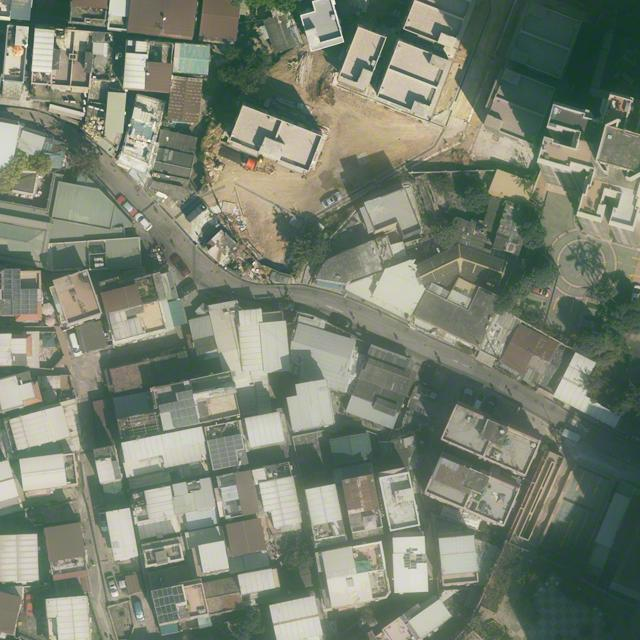panel: (208, 435, 238, 470), (151, 584, 186, 608), (170, 407, 200, 428), (13, 289, 37, 314), (4, 268, 21, 301), (158, 399, 196, 413), (155, 603, 180, 624), (176, 390, 193, 401), (233, 434, 243, 450)
